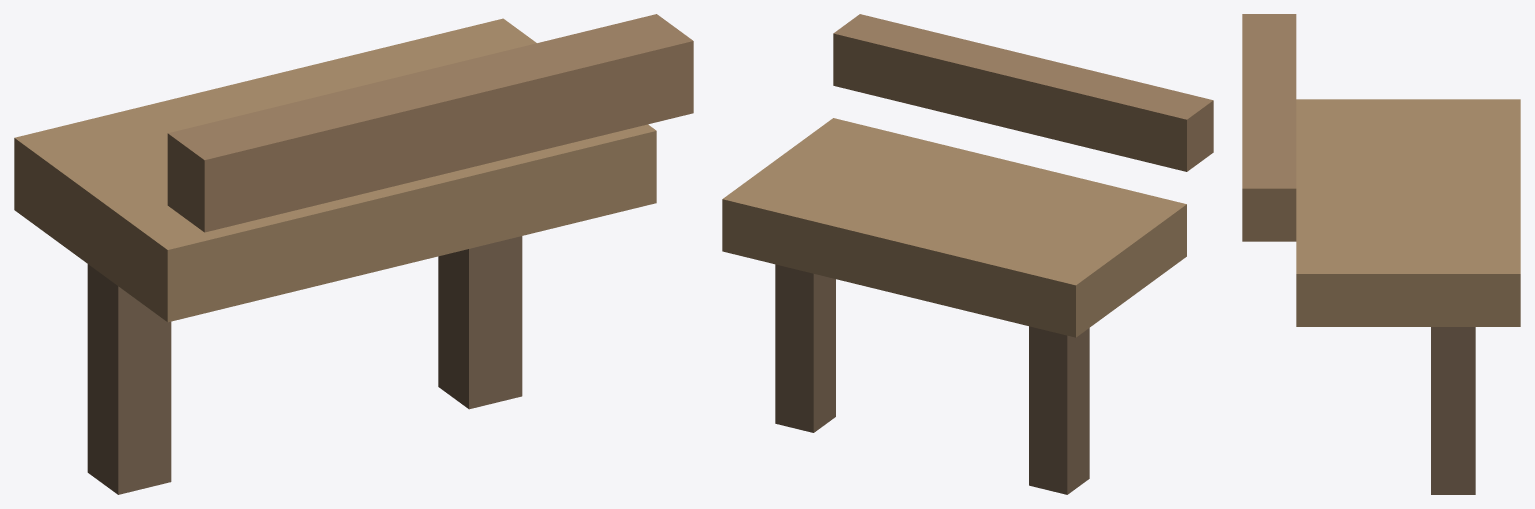
File: bench.gltf
3 views of the same model, side by side, from view 1: azimuth 30°, elevation 25°; view 2: azimuth 150°, elevation 25°; view 3: azimuth 270°, elevation 25° (orthographic). The views are drawn at different scales.
Visible parts, largest first — view 1: bench; view 2: bench; view 3: bench.
Boxes of the visible parts, x1,y1,x2,y2 form: bench: (14, 14, 693, 494); bench: (722, 14, 1213, 494); bench: (1242, 14, 1520, 494).
Bounding box in the file's own units: 0.92 × 0.79 × 0.62.
